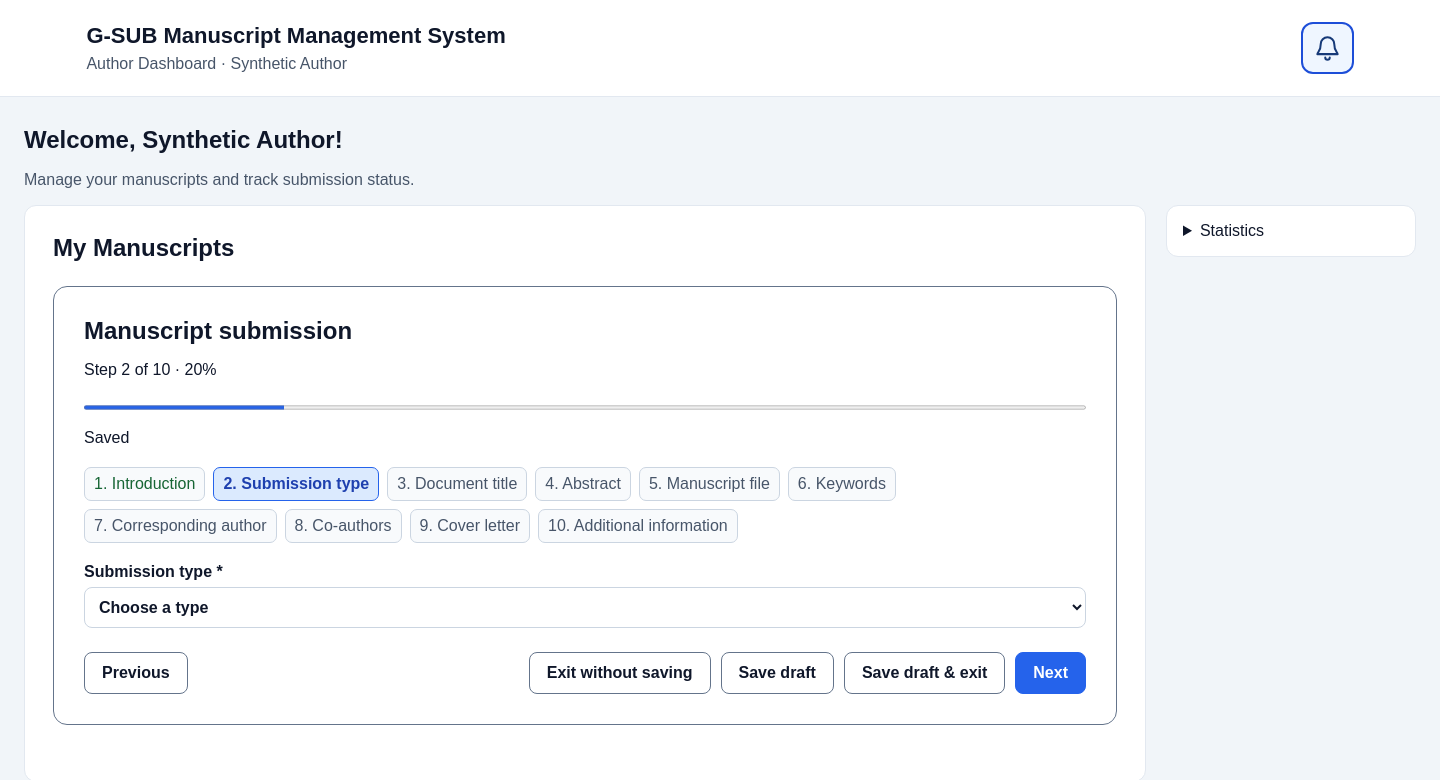
it: AuthorDashboard - Submission Wizard Integration › completes the entire new manuscript submission workflow
Earlier steps of the test are not shown.
Later steps or results of the test are not shown.
Expected: the text "Step 2 of 10 · 20%" is shown, [84,361,216,378]
Select "Review Article" in the dropdown labelled "Submission type *". click: (585, 608)
box: [84,587,1086,628]
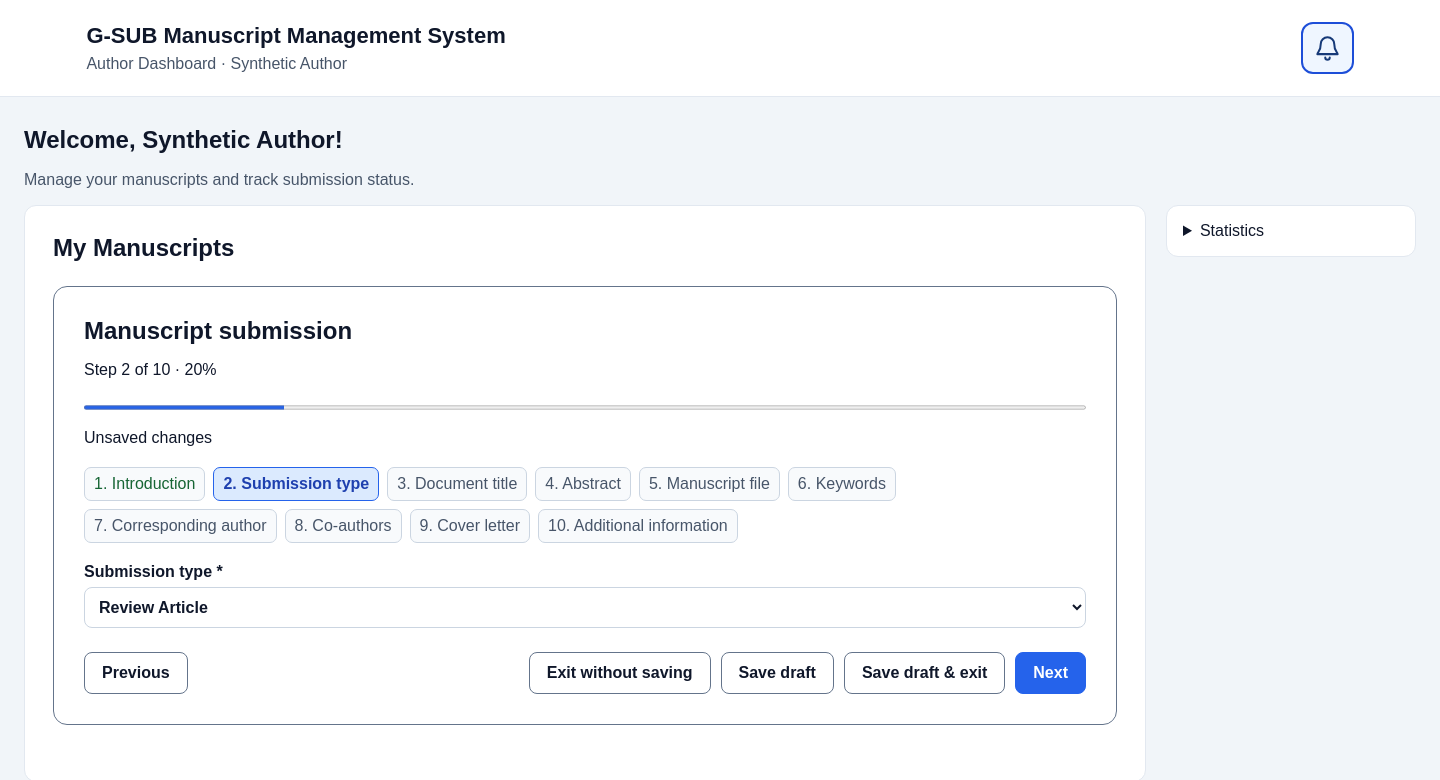
Click the button "Next". click: click(1051, 673)
box: [1015,652,1086,694]
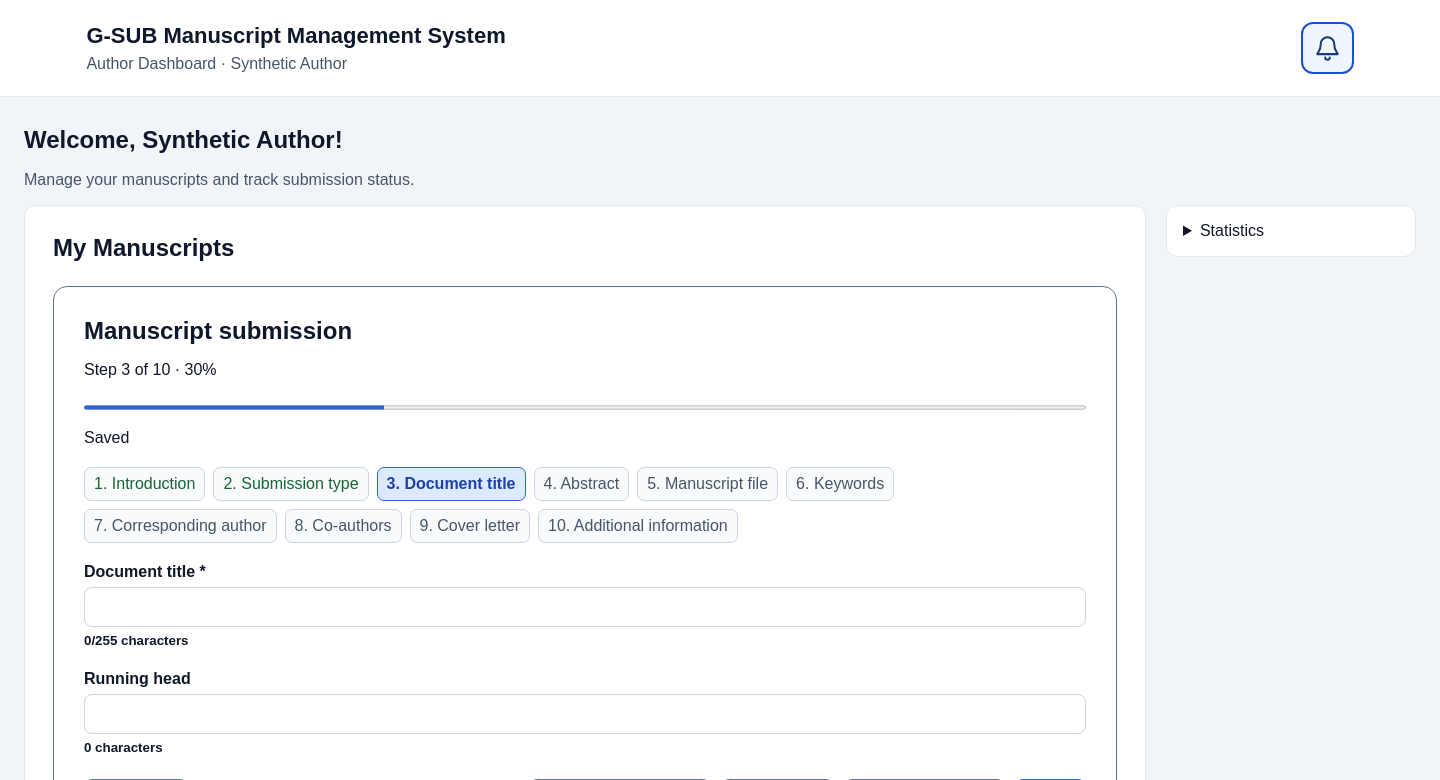
Result: the text "Step 3 of 10 · 30%" is shown at [84,361,216,378]
Type "New Synthetic Paper" into the field labelled "Document title * 0/255 characters". click: (585, 607)
box: [84,587,1086,627]
(page scrolled)
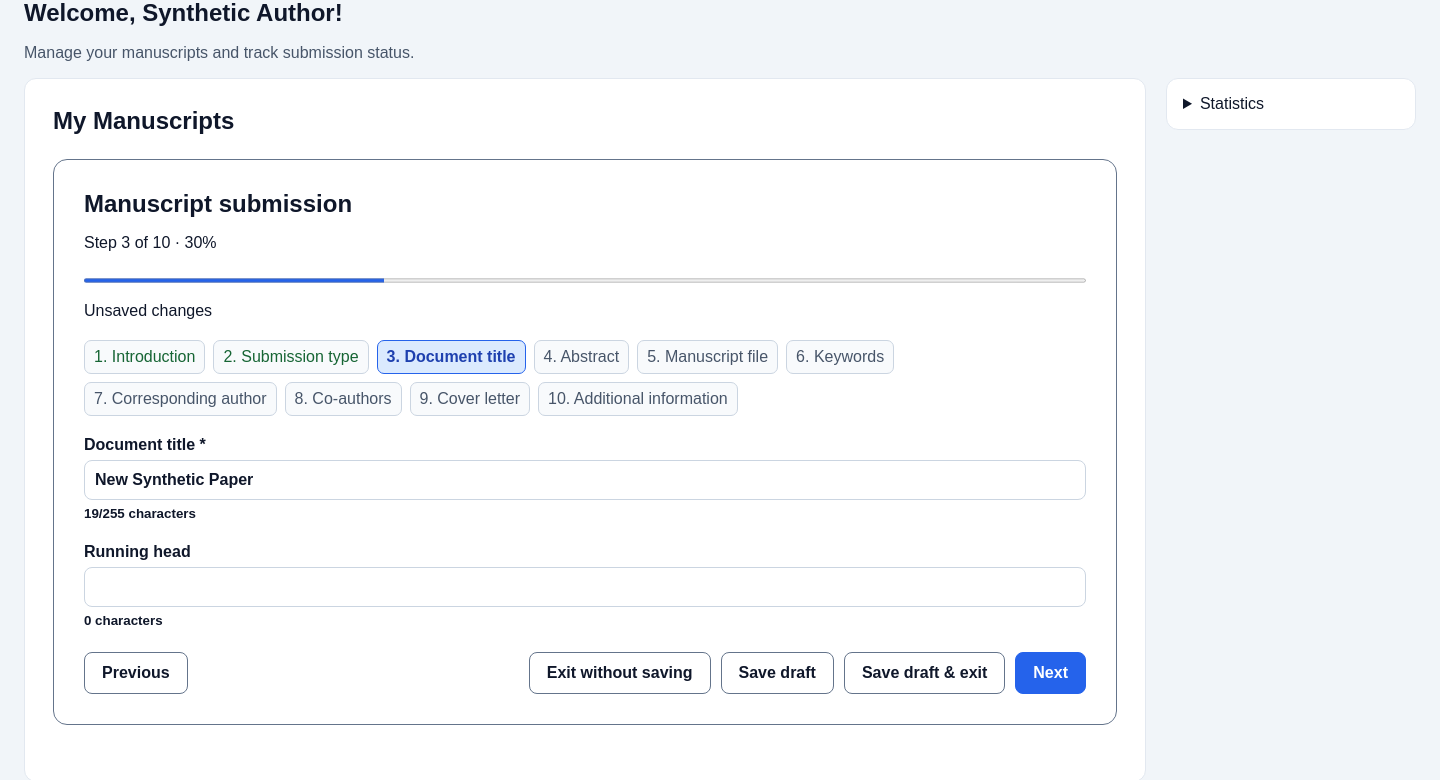
Click the button "Next". click: click(1051, 673)
box: [1015,652,1086,694]
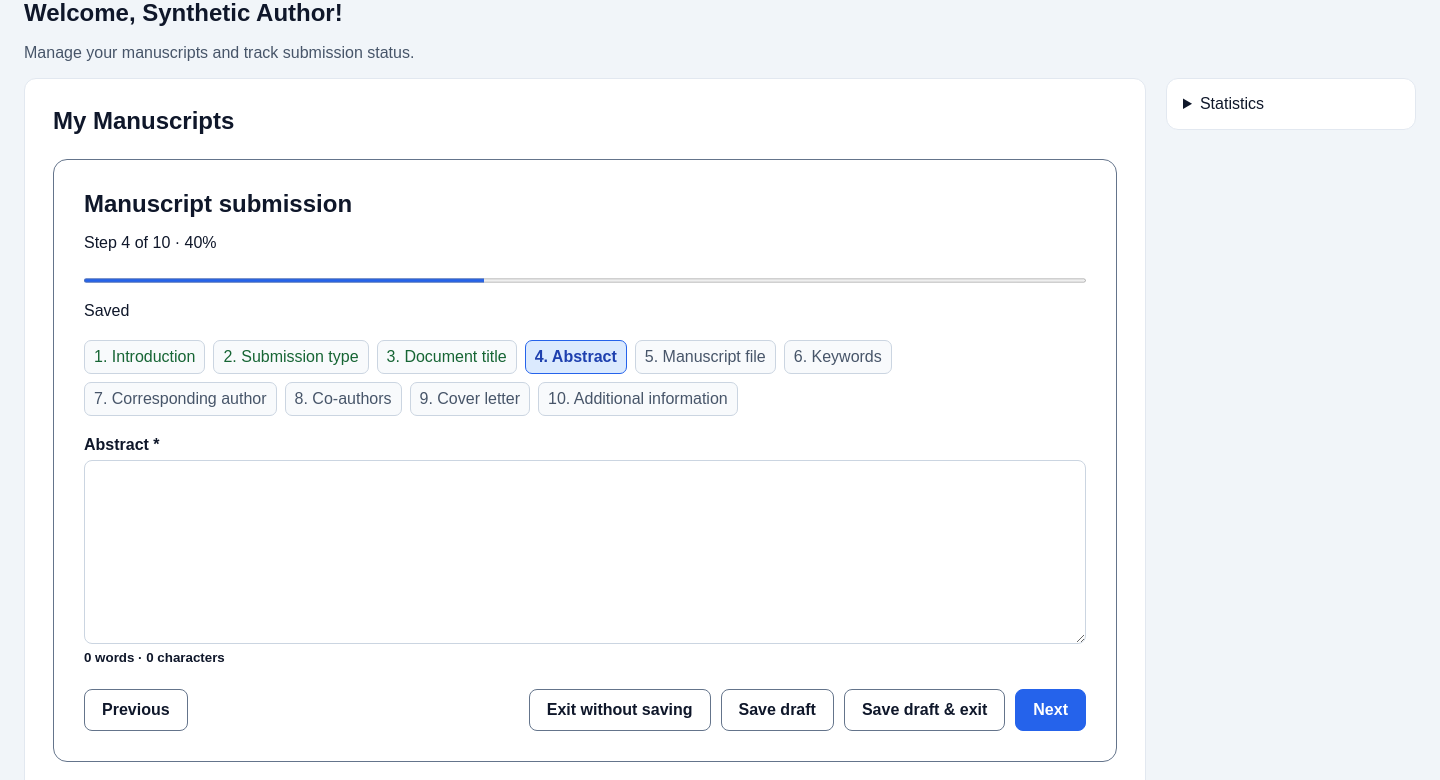
Result: the text "Step 4 of 10 · 40%" is shown at [84,234,216,251]
Type "New synthetic abstract." into the text box labelled "Abstract * 0 words · 0 characters". click: (585, 552)
box: [84,460,1086,644]
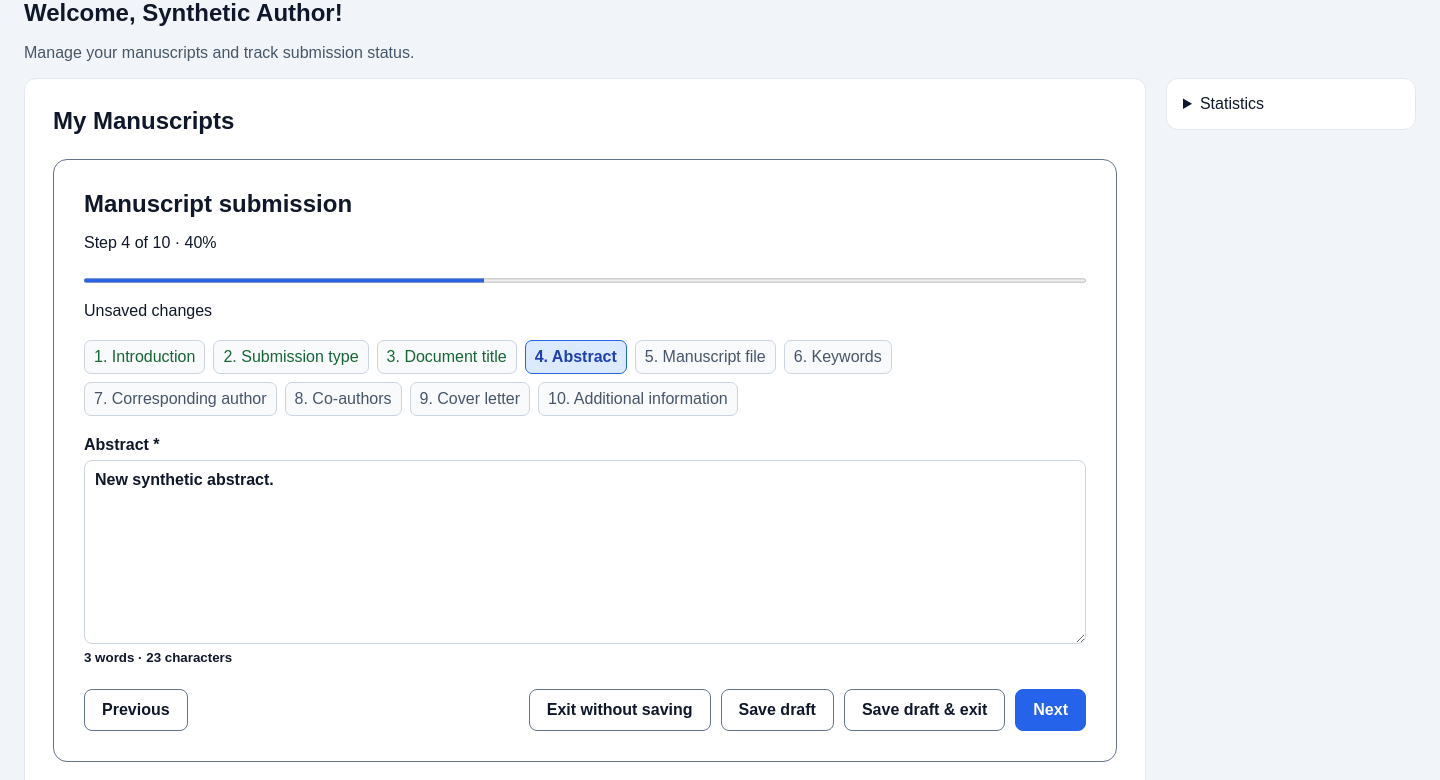
Click the button "Next". click: click(1051, 710)
box: [1015,689,1086,731]
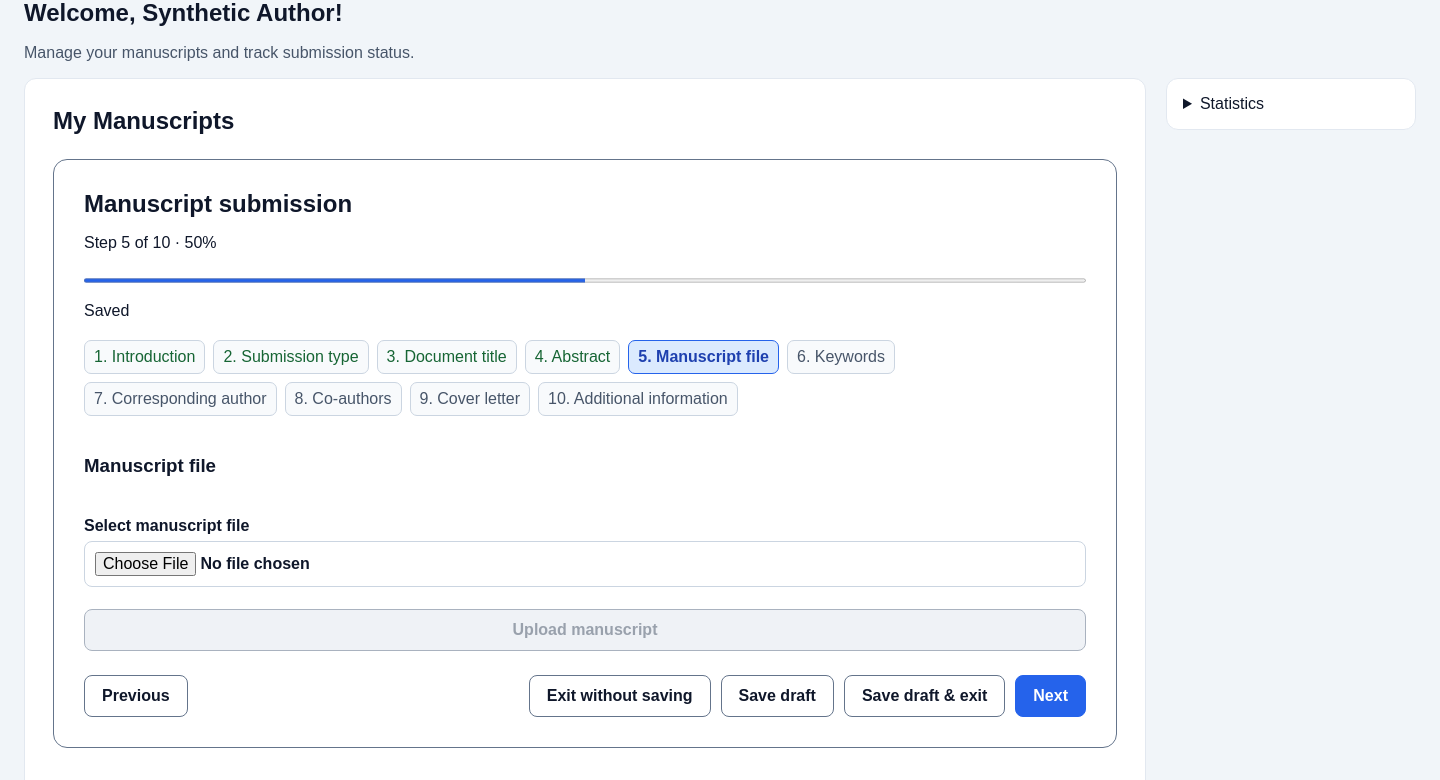
Result: the text "Step 5 of 10 · 50%" is shown at [84,234,216,251]
